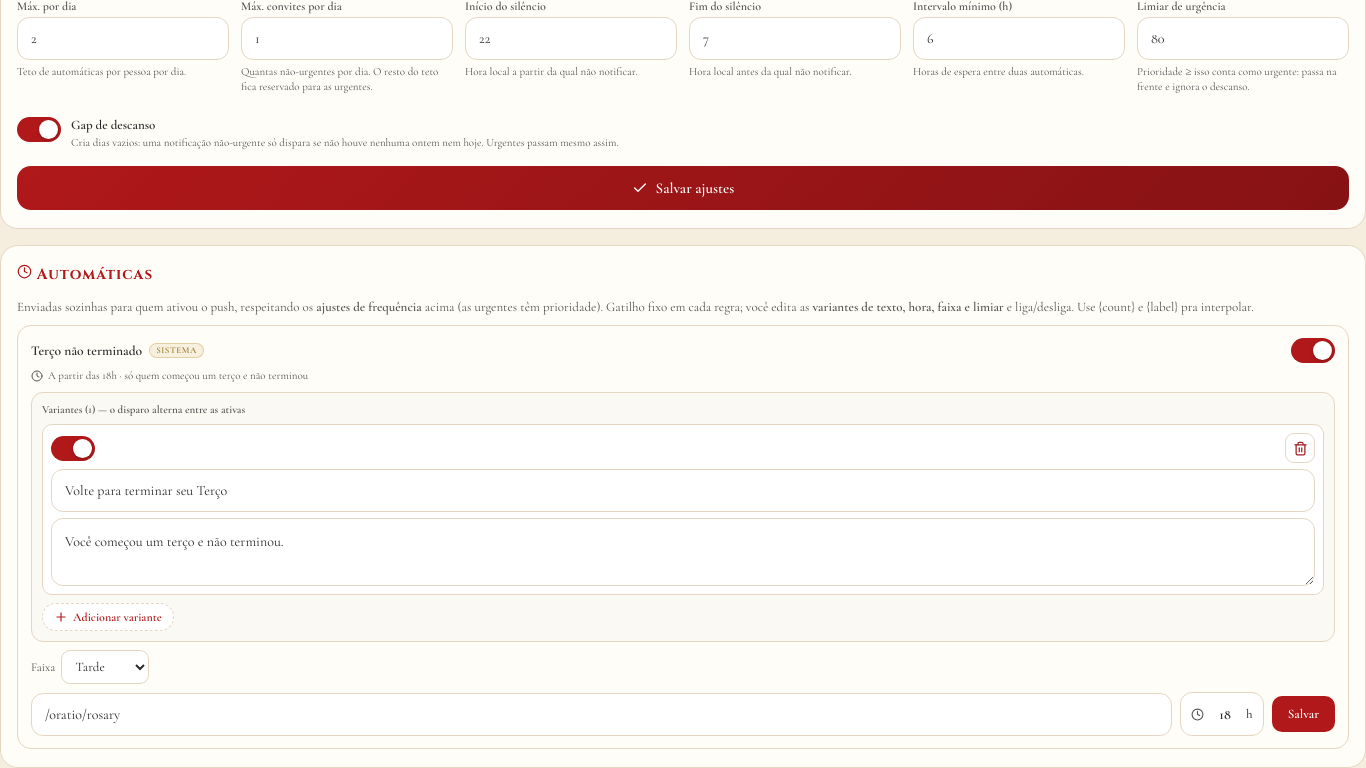
Test: AdminNotifications › reverts the optimistic variant toggle and shows an error when the API rejects (last active)
The width and height of the screenshot is (1366, 768).
(page scrolled)
Click the switch named "Ativar variante 1".
click(73, 448)  # box 51,436 -> 95,461
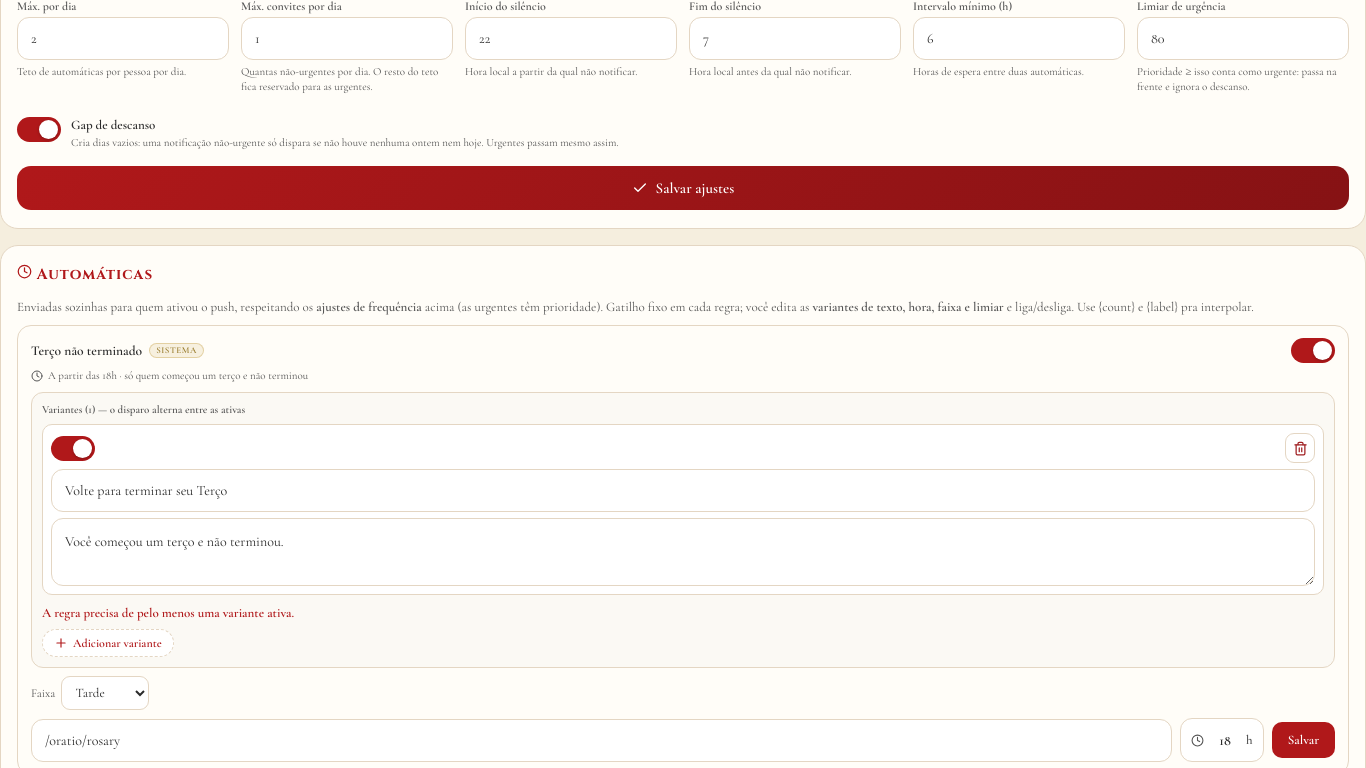
Expected: the text "A regra precisa de pelo menos uma variante ativa." is shown, 42,605 -> 294,621
